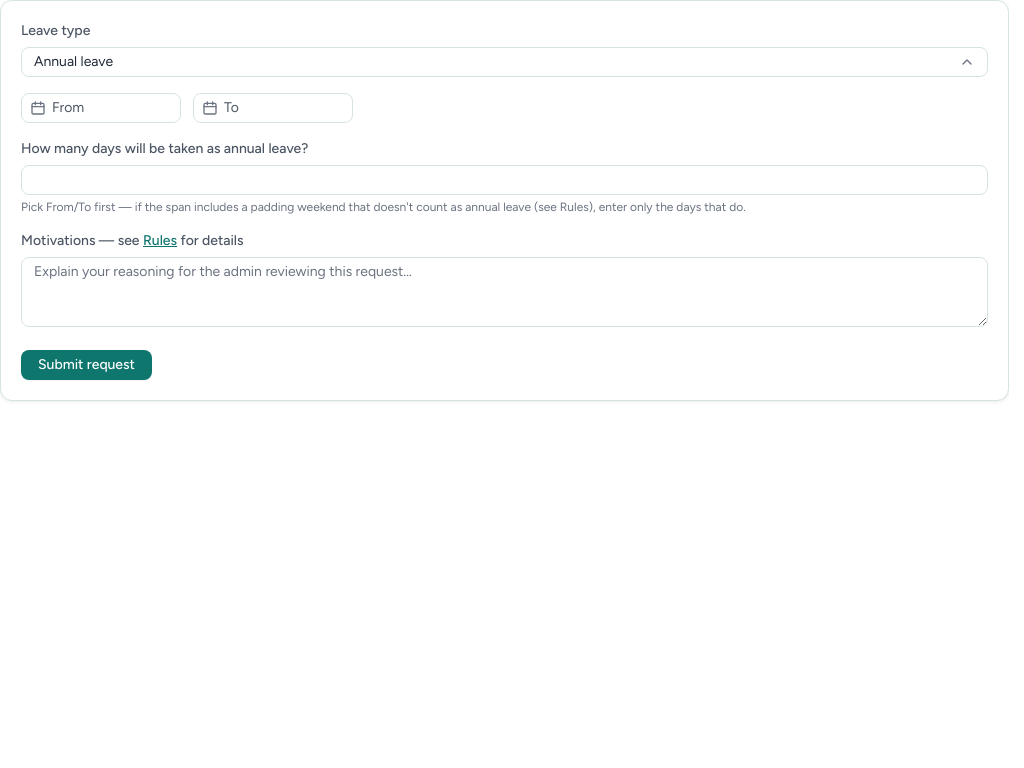
Test case: LeaveRequestForm › annual leave: shows the shared capacity banner once both dates are picked, reusing LeaveCapacityBanner's own wording
Type "2026-08-10" into the date field labelled "From" at coordinates (101, 108), box [21, 93, 181, 123]
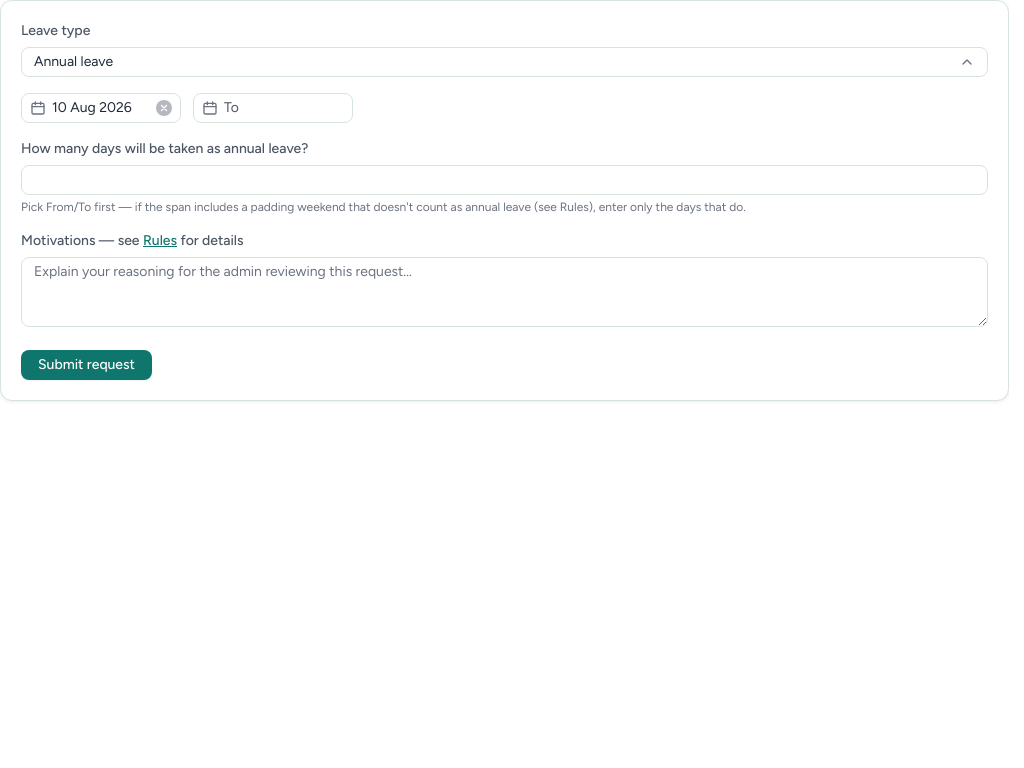
Type "2026-08-14" into the date field labelled "To" at coordinates (273, 108), box [193, 93, 353, 123]
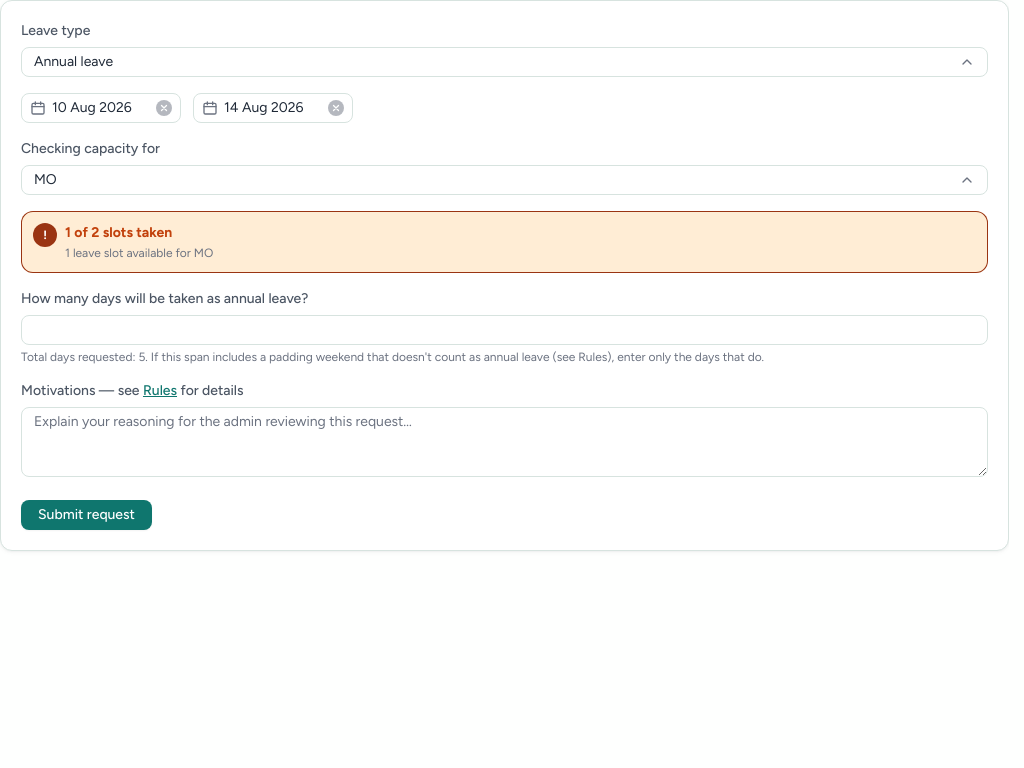
Now the text "1 of 2 slots taken" is shown, box [65, 224, 172, 241]
Now the text "1 leave slot available for MO" is shown, box [65, 245, 213, 261]
